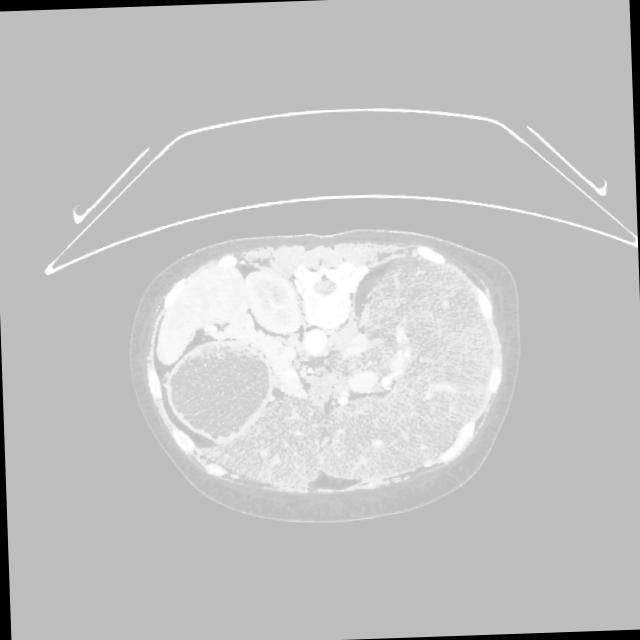NORMAL: (121, 201, 558, 533)
